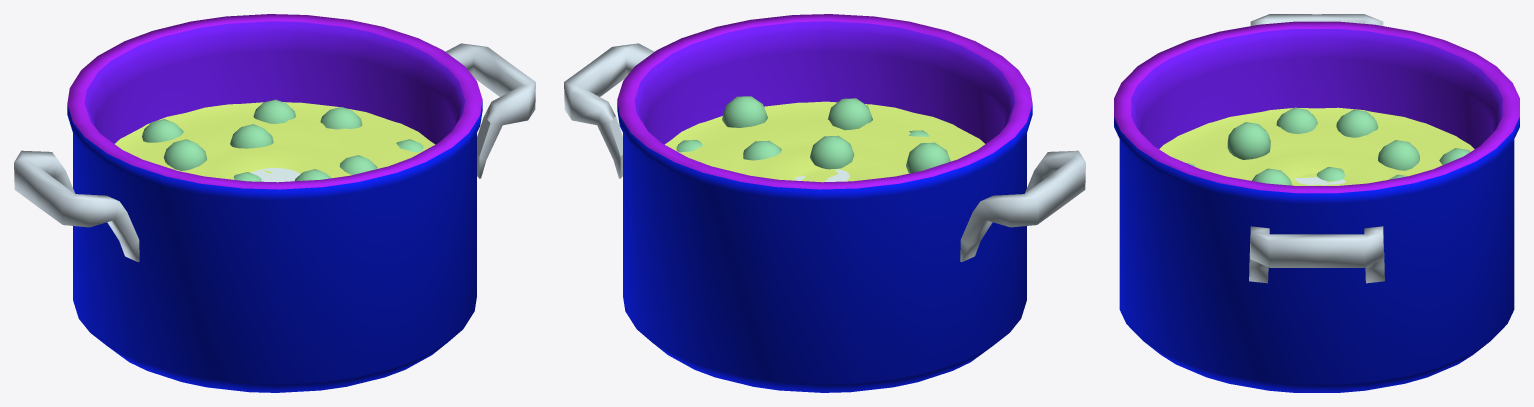
The model's file is CookedPeasPot.fbx.
3 views of the same model, side by side, from view 1: azimuth 30°, elevation 25°; view 2: azimuth 150°, elevation 25°; view 3: azimuth 270°, elevation 25° (orthographic).
Visible parts, largest first — view 1: Body.006, PeasBroth, Handles.004, Peas.007, Water.001; view 2: Body.006, PeasBroth, Handles.004, Peas.007; view 3: Body.006, PeasBroth, Handles.004, Peas.007.
Boxes of the visible parts, bbox=[...] form: Body.006: bbox=[67, 14, 482, 392]; PeasBroth: bbox=[115, 102, 434, 179]; Handles.004: bbox=[14, 43, 535, 261]; Peas.007: bbox=[142, 99, 423, 181]; Water.001: bbox=[251, 168, 300, 182]; Body.006: bbox=[617, 14, 1032, 392]; PeasBroth: bbox=[665, 101, 984, 182]; Handles.004: bbox=[564, 43, 1085, 261]; Peas.007: bbox=[676, 96, 950, 173]; Body.006: bbox=[1114, 21, 1519, 392]; PeasBroth: bbox=[1159, 107, 1474, 185]; Handles.004: bbox=[1249, 14, 1384, 283]; Peas.007: bbox=[1186, 107, 1470, 185].
Size of the model in its own units: 83.38 by 35.99 by 62.94.
